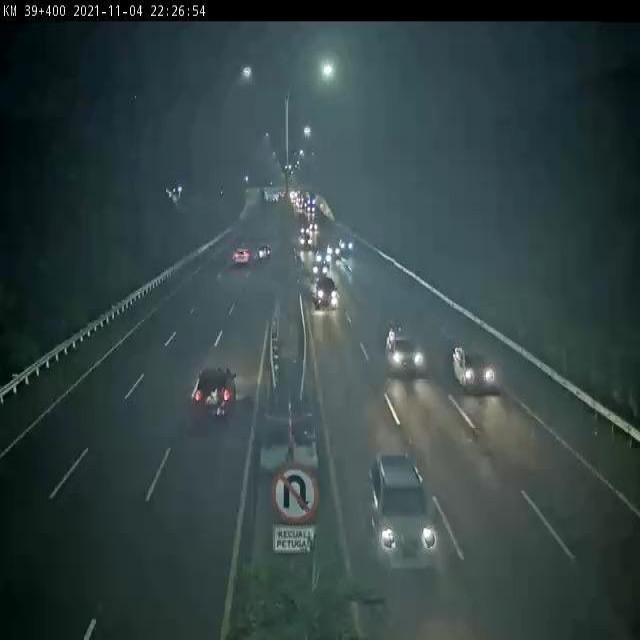car: (365, 453, 442, 571), (192, 368, 238, 419), (451, 344, 498, 393), (385, 322, 424, 378), (313, 273, 341, 312), (312, 259, 331, 284)
